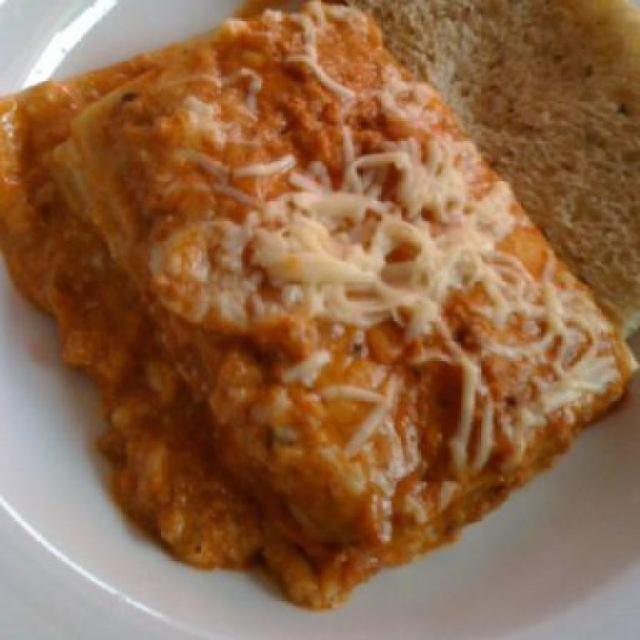Lasagna: (38, 16, 574, 573)
